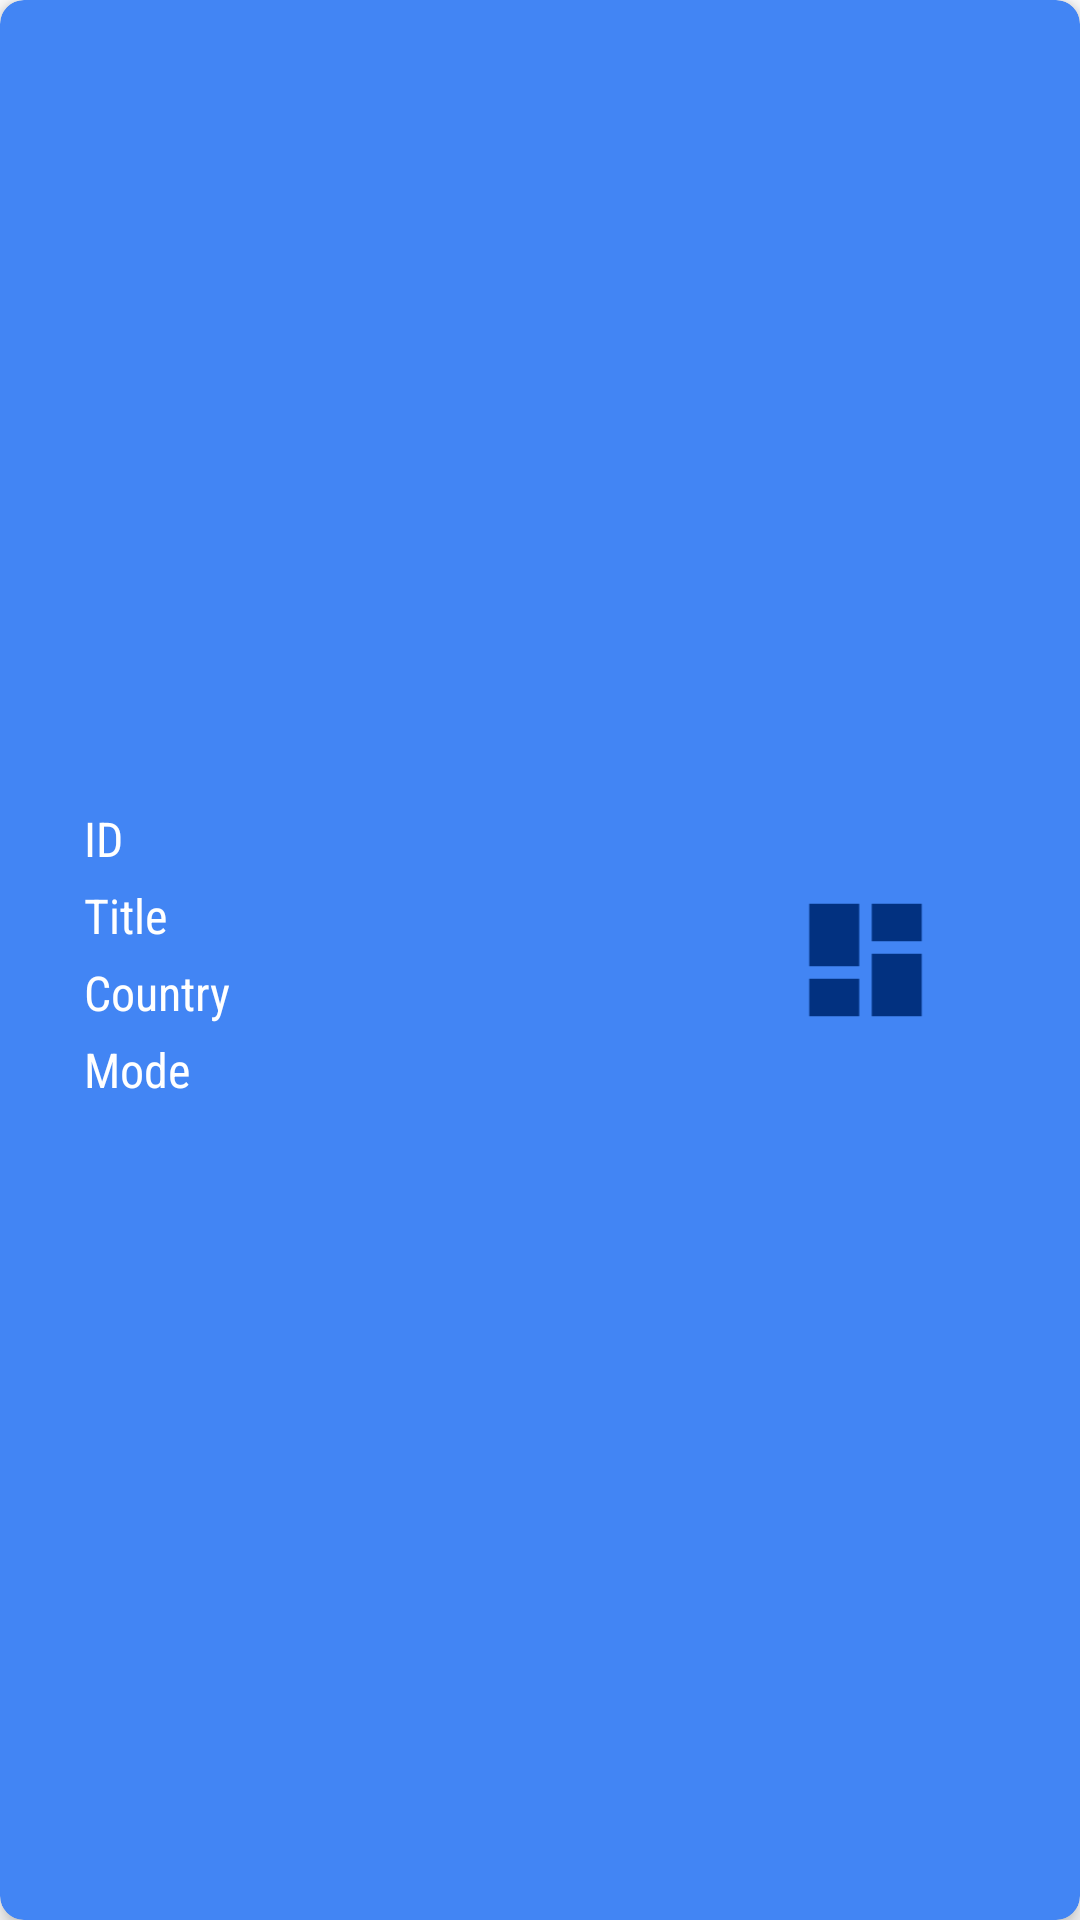

Screen size 1080px×1920px. Icon name, then its box in pixels as (x1, y1, x2, y2):
dashboard: (809, 903, 922, 1017)
